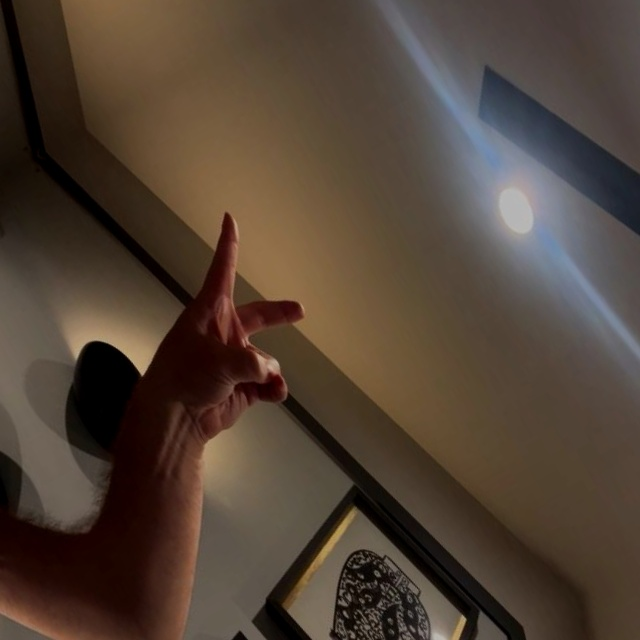Scissors: (0, 0, 112, 37)
